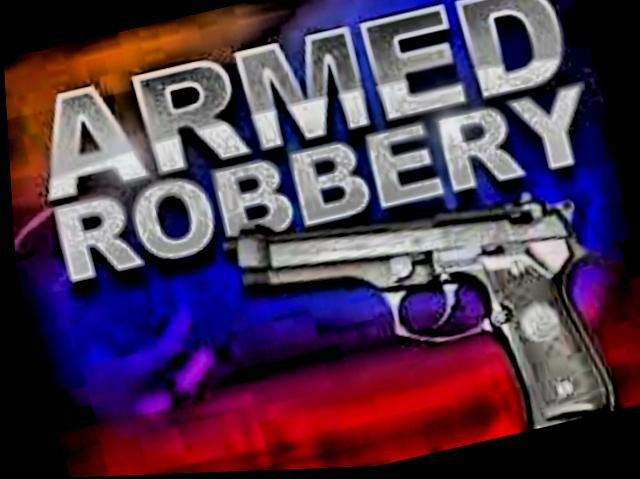pistol: (204, 138, 630, 473)
